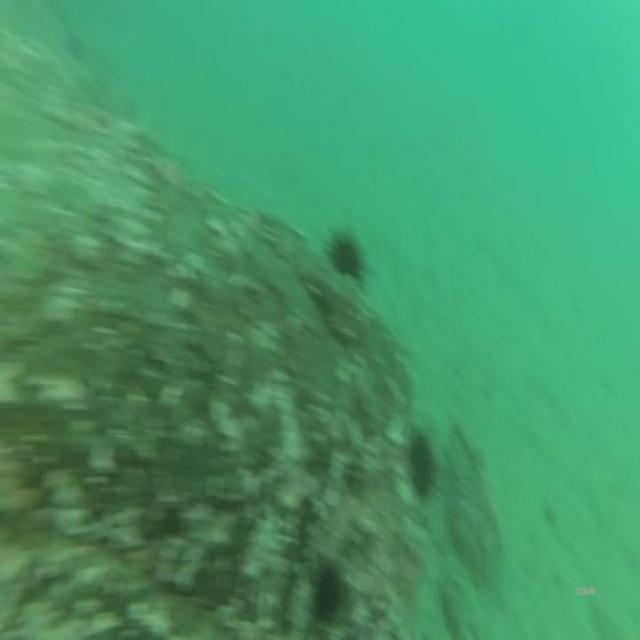echinus: (308, 556, 347, 632), (408, 426, 436, 506), (331, 231, 364, 284)
